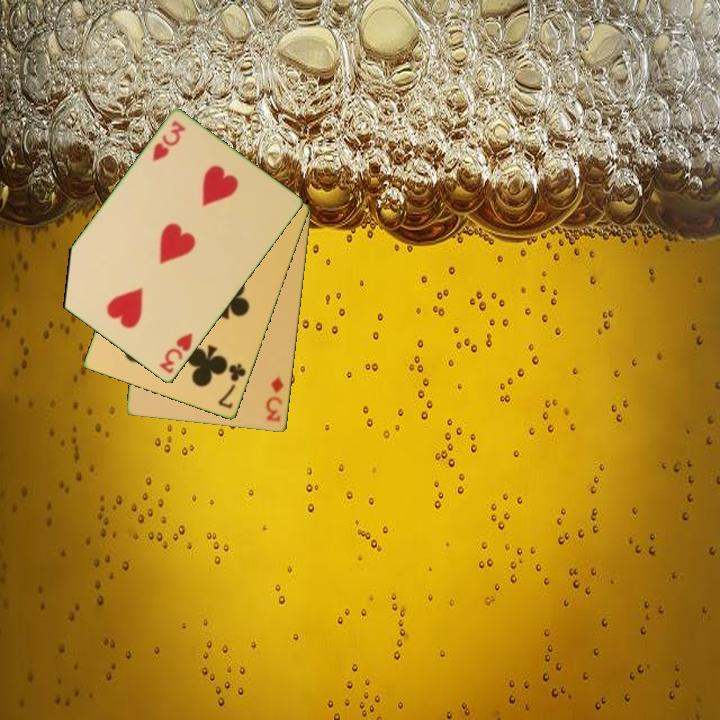3d: (263, 374, 287, 425)
3h: (156, 329, 196, 377), (149, 117, 188, 165)
7c: (215, 360, 249, 412)
